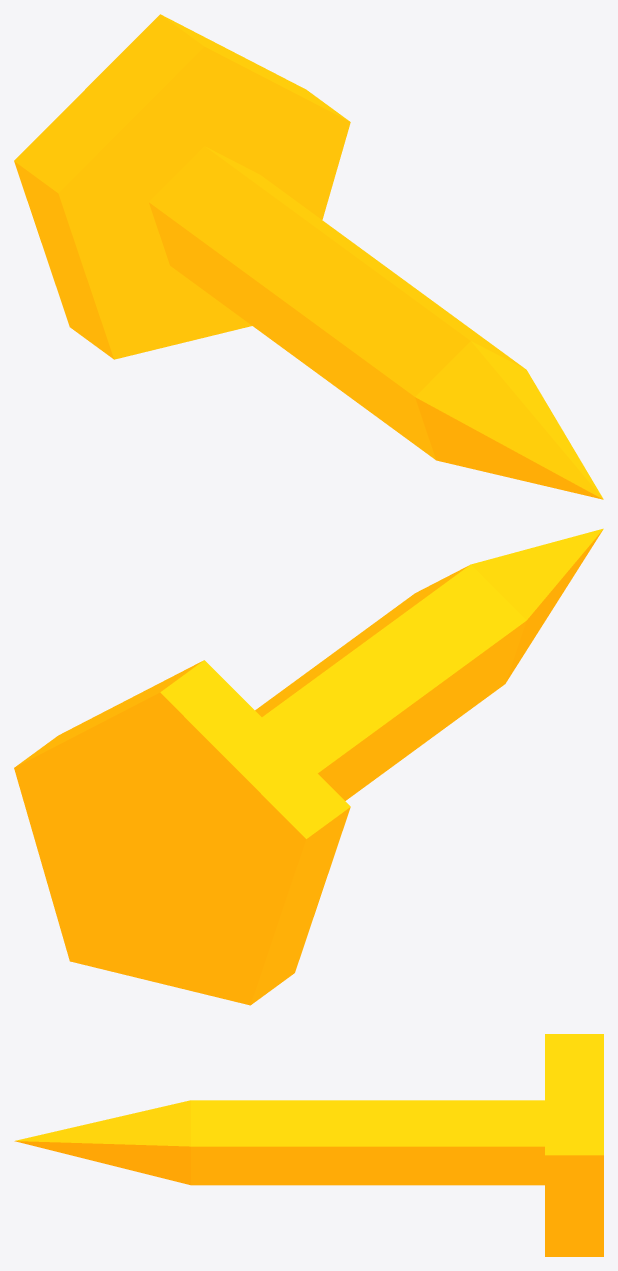
File: MC_Projectile.glb
3 renders of one model, top to bottom at view 1: azimuth 30°, elevation 25°; view 2: azimuth 150°, elevation 25°; view 3: azimuth 270°, elevation 25°, orthographic. The views are drawn at different scales.
Parts seen in each view (by area): view 1: Cylinder; view 2: Cylinder; view 3: Cylinder.
Part boxes in pixels (x1,y1,x2,y2): Cylinder: [14, 14, 603, 499]; Cylinder: [14, 528, 603, 1005]; Cylinder: [14, 1034, 603, 1256].
Bounding box in the file's own units: 0.1427 × 0.1357 × 0.375.
